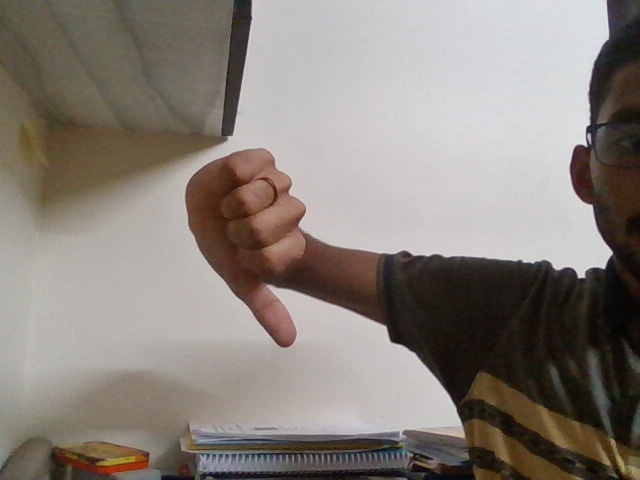No: (167, 120, 323, 368)
